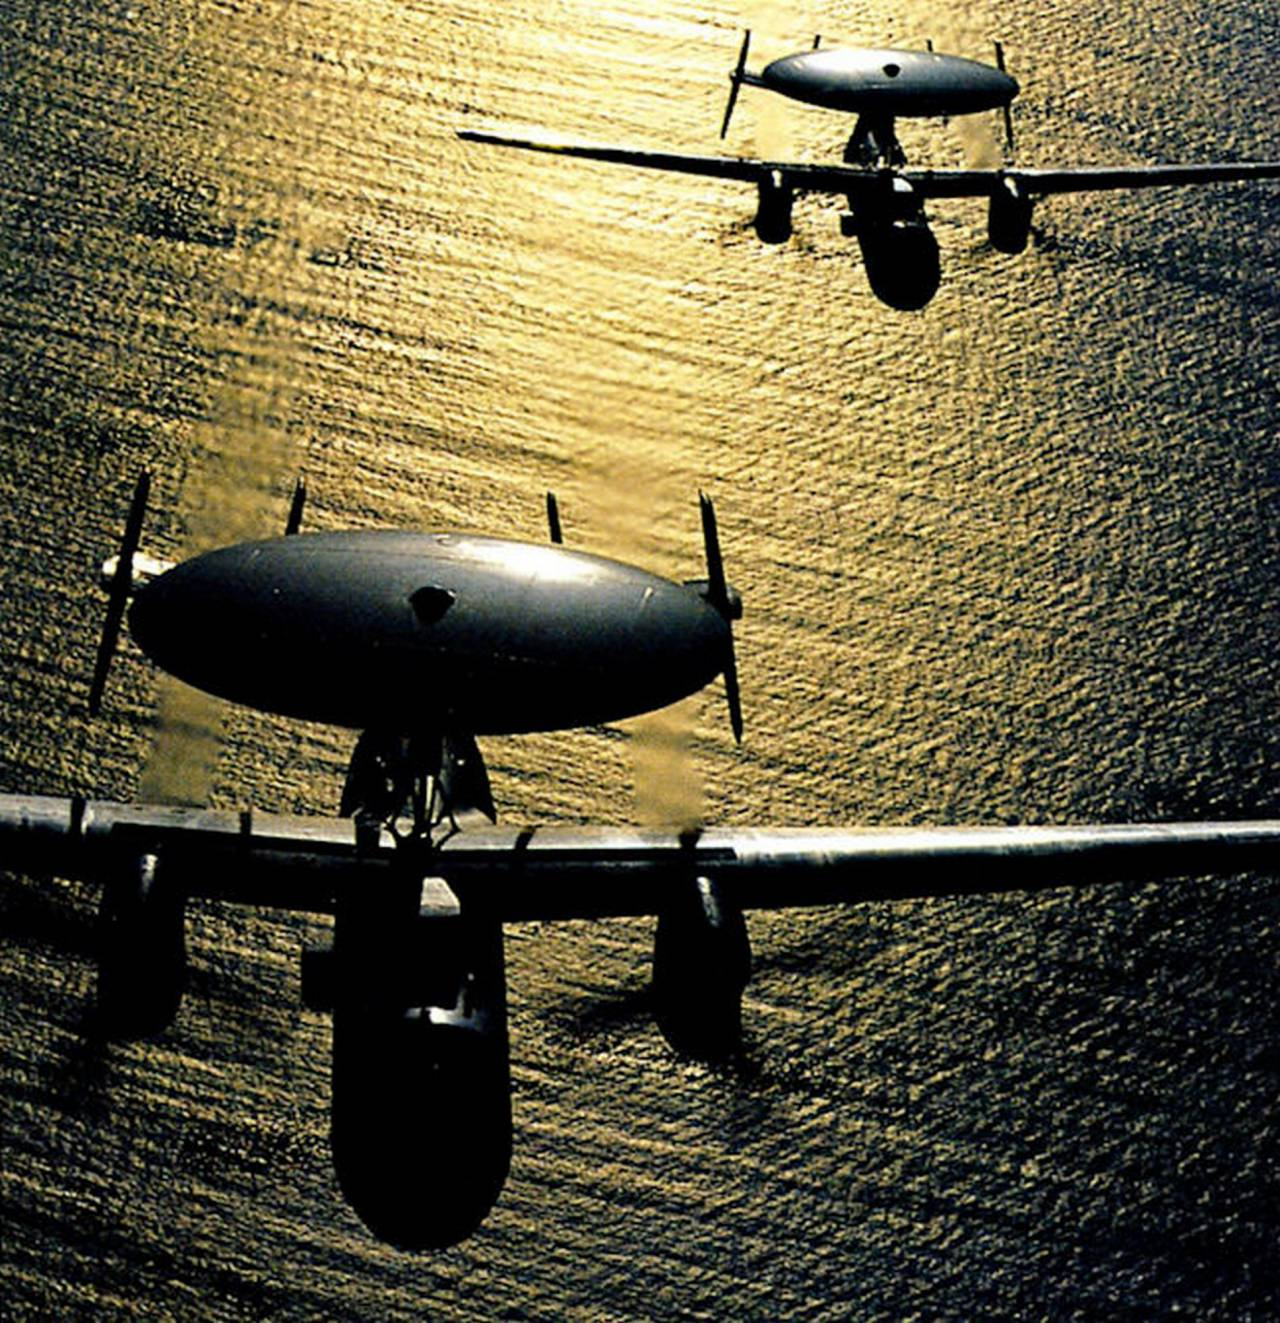E2: (1, 470, 1280, 1250), (455, 26, 1280, 311)
